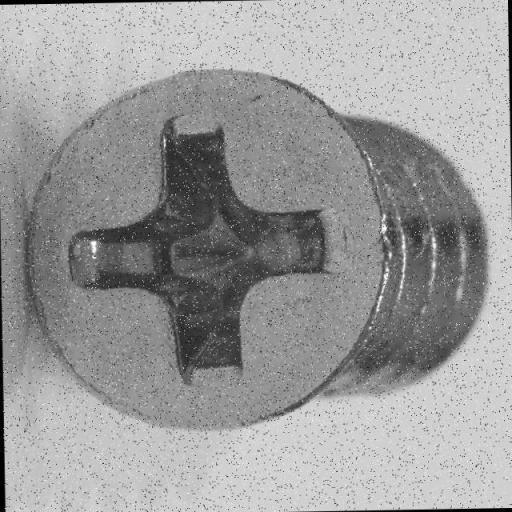Phillips: (15, 63, 373, 444)
